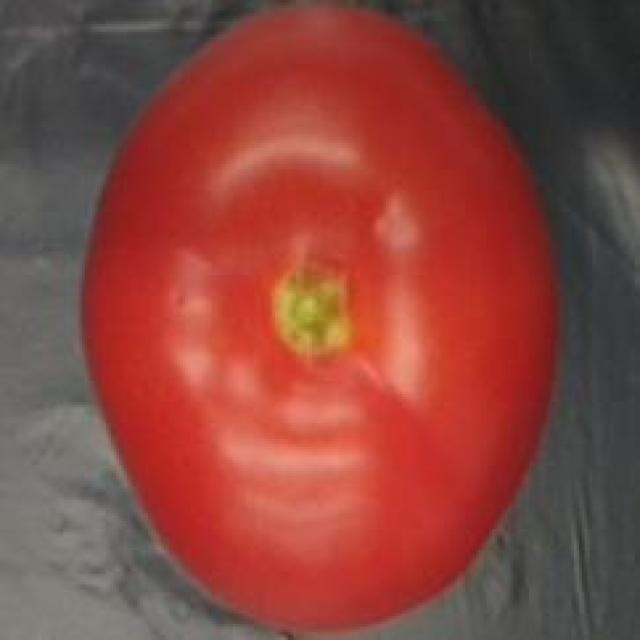ripe tomato: (66, 3, 577, 632)
